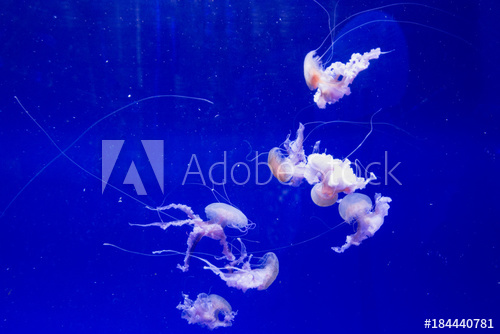jellyfish: (150, 193, 252, 261), (296, 45, 389, 111), (304, 146, 374, 209), (330, 193, 393, 255), (203, 247, 283, 292), (260, 137, 311, 187), (177, 289, 239, 330)
